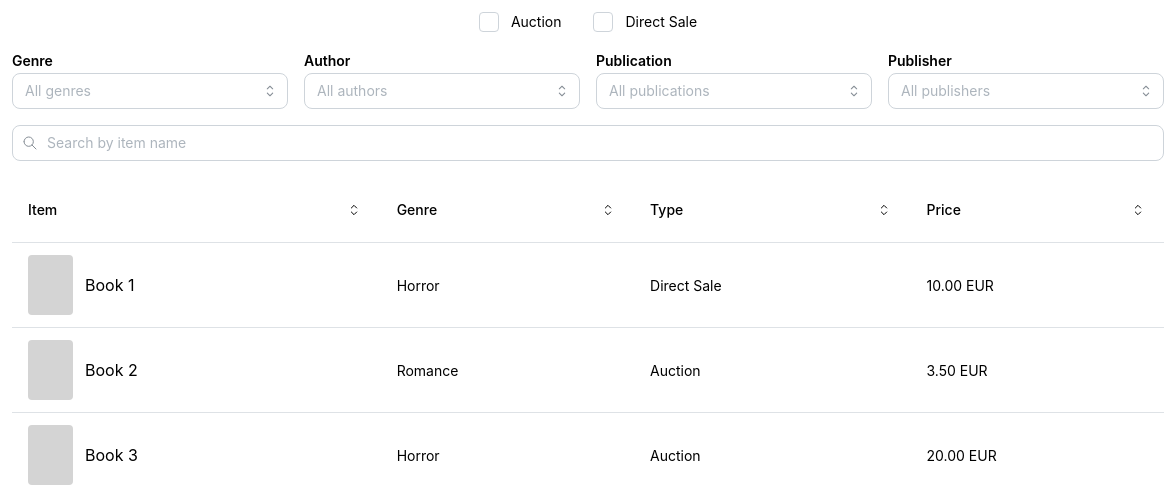
Test: MarketPlaceTable › filters items by selected genre
What coordinates should you click on to do the following:
click the dropdown with placeholder "All genres"
I would click on:
 (139, 90)
Its box is [25, 79, 253, 102].
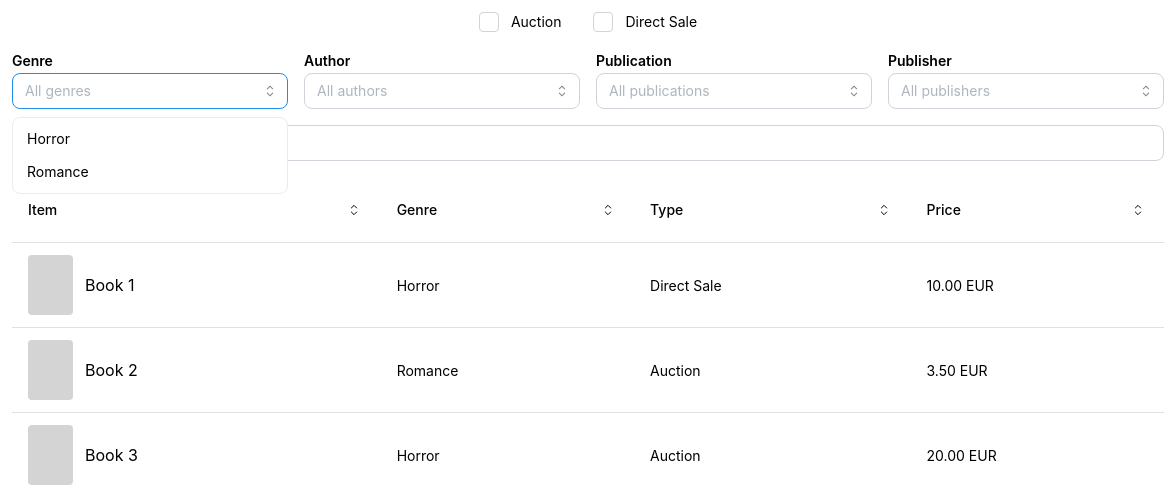
What coordinates should you click on to do the following:
click the option "Romance"
I would click on:
 (58, 172)
Its box is [27, 164, 89, 180].
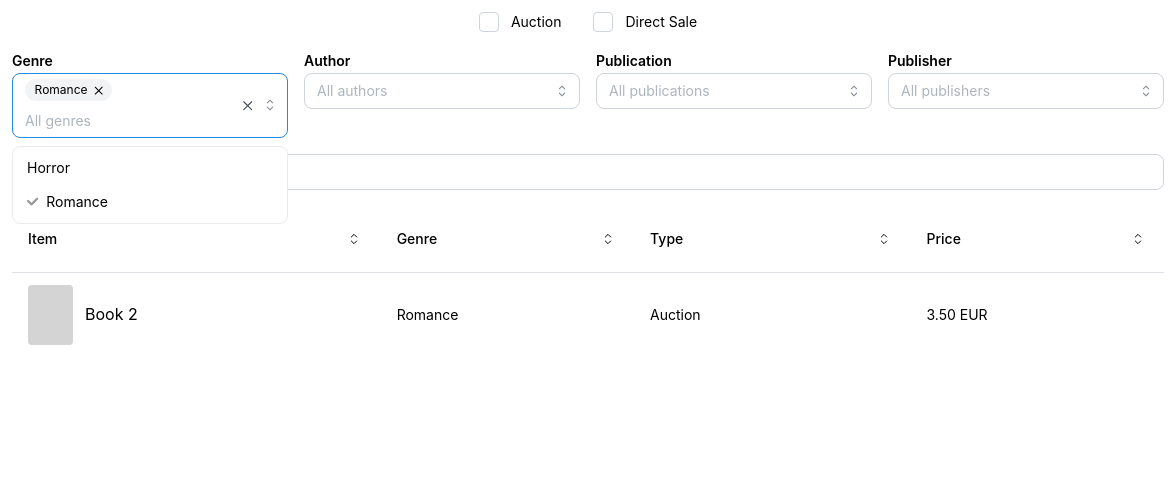
Expected: the text "Book 2" is shown, [85, 302, 138, 327]
Now the text "Book 1" is gone
Now the text "Book 3" is gone
